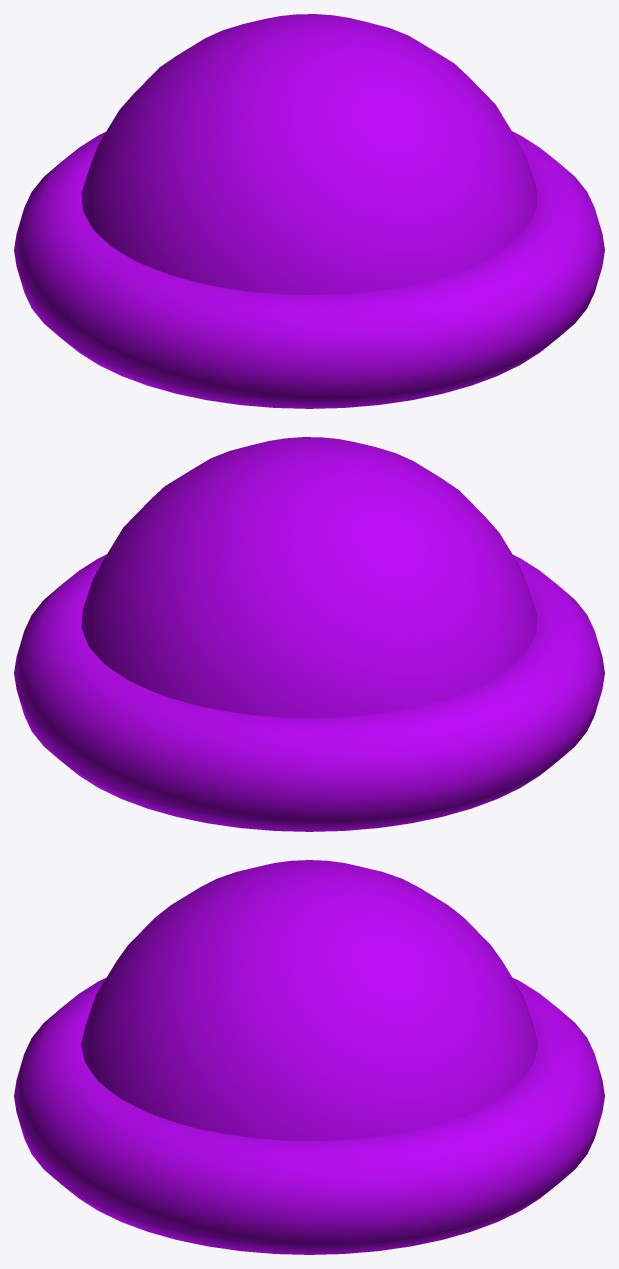
The model's file is enemy.obj.
The picture shows the model from 3 angles, top to bottom: view 1: azimuth 30°, elevation 25°; view 2: azimuth 150°, elevation 25°; view 3: azimuth 270°, elevation 25°; orthographic projection.
Parts seen in each view (by area): view 1: トーラス; view 2: トーラス; view 3: トーラス.
Part boxes in pixels (left/top/right/bottom): トーラス: left=14, top=14, right=604, bottom=408; トーラス: left=14, top=437, right=604, bottom=831; トーラス: left=14, top=860, right=604, bottom=1254.
Bounding box in the file's own units: 2.5 × 1.25 × 2.5.
1 material, 1 textured.
